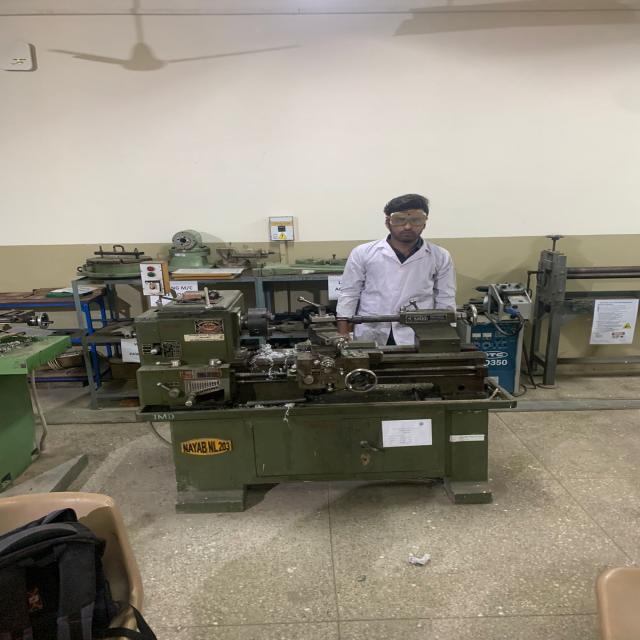googles: (382, 209, 431, 228)
labcoat: (335, 228, 460, 347)
